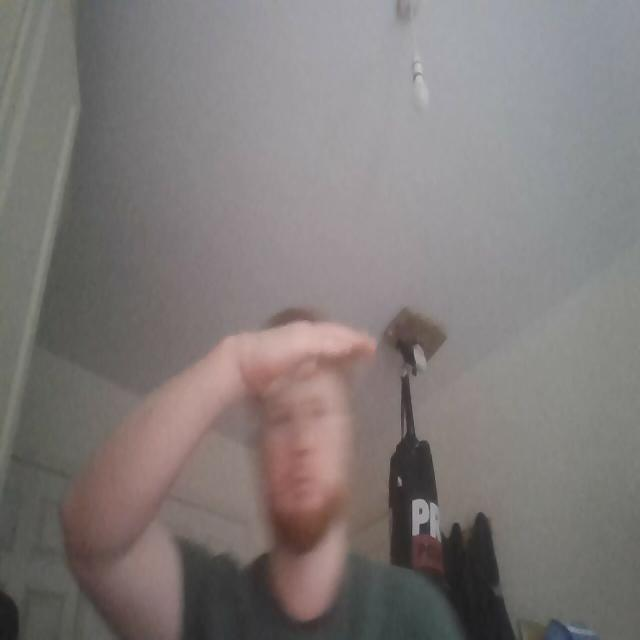papper: (218, 318, 378, 398)
